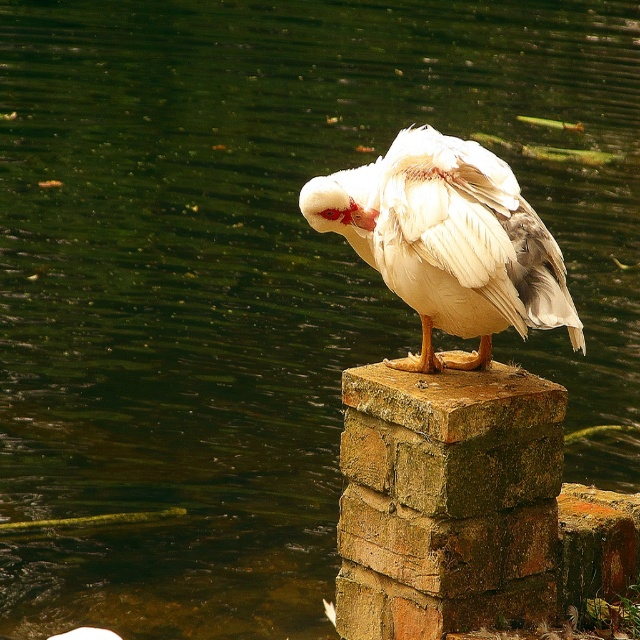Goose: (306, 115, 587, 382)
